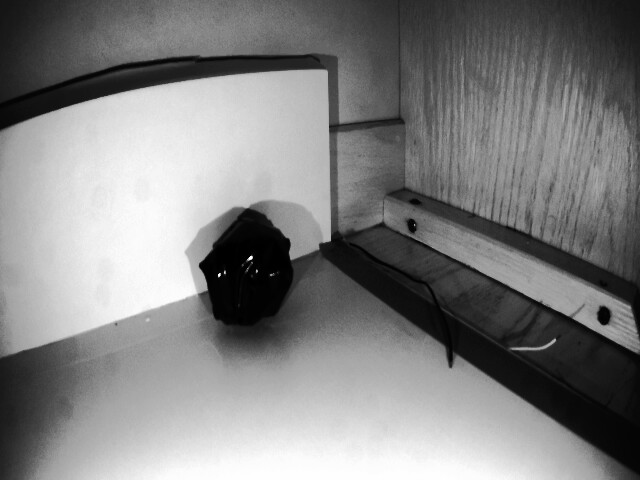black: (183, 215, 294, 321)
